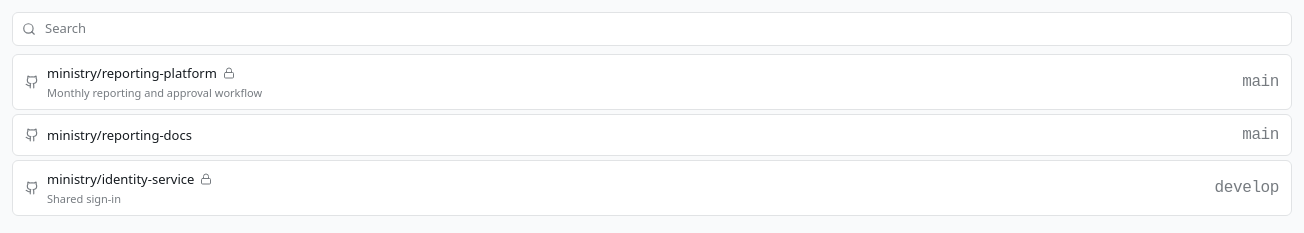
it: choosing a repository › says when a filter matches nothing this credential can see
This screenshot has width=1304, height=233.
Type "zzz" into the field named "filter repositories". click: [652, 29]
box: [12,12,1292,46]
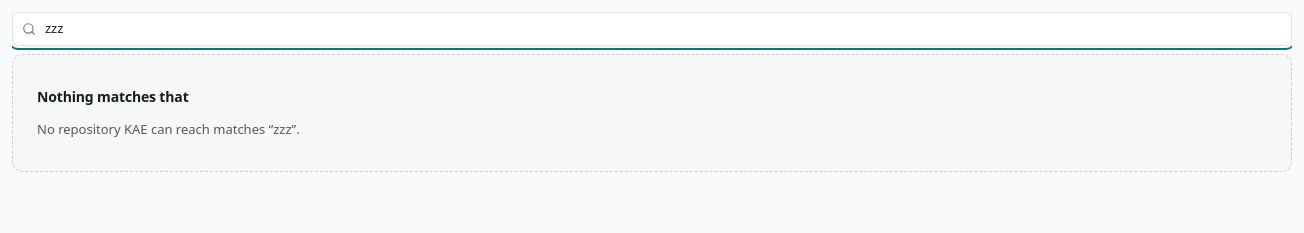
expect the text "No repository KAE can reach matches “zzz”." is shown: met, box [37,118,300,139]
